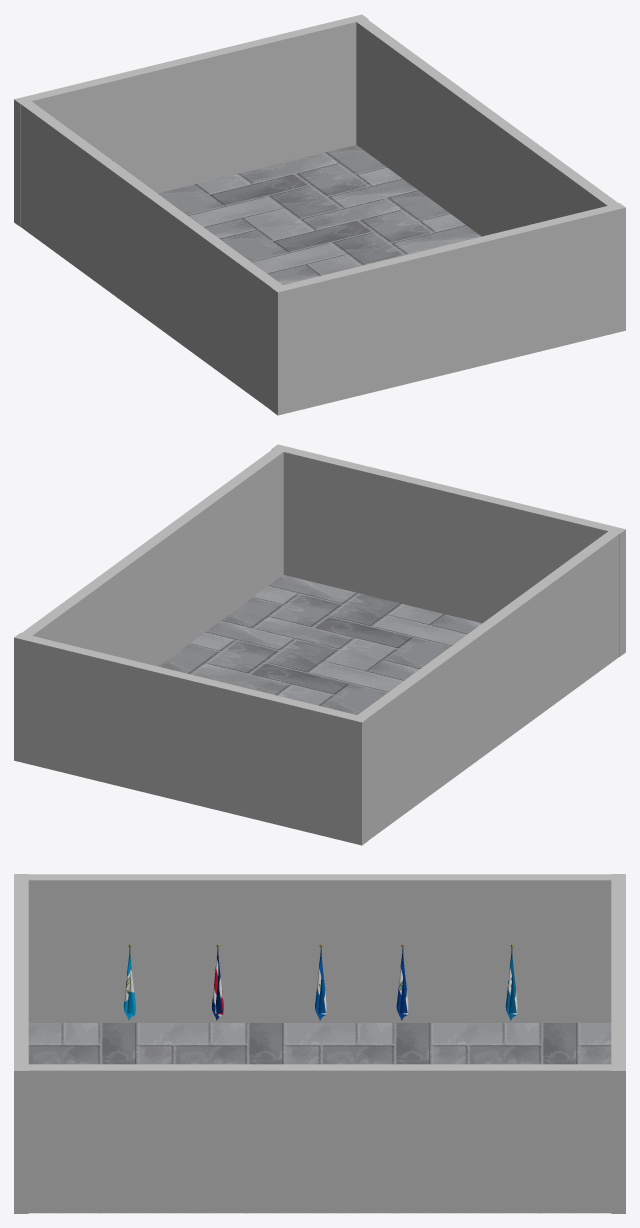
Rendered from FinalDesign.gltf.
3 views of the same model, one above another, from view 1: azimuth 30°, elevation 25°; view 2: azimuth 150°, elevation 25°; view 3: azimuth 270°, elevation 25° (orthographic). The views are drawn at different scales.
Visible parts, largest first — view 1: leftWall, rightwall, wall, wall.001, floor; view 2: rightwall, leftWall, wall, wall.001, floor; view 3: wall.001, wall, floor, leftWall, rightwall, Flag.002, Flag.002_Material_0.003, Flag.002_Material_0.002, Flag.002_Material_0.001, Flag.002_Material_0.004.
Boxes of the visible parts, x1,y1,x2,y2 form: leftWall: (271,203,625,415); rightwall: (14,14,368,226); wall: (19,100,283,410); wall.001: (356,19,618,236); floor: (158,145,481,284); rightwall: (14,633,368,845); leftWall: (271,444,625,656); wall: (355,530,619,840); wall.001: (21,449,283,666); floor: (158,575,481,714); wall.001: (28,1064,615,1212); wall: (26,874,615,1022); floor: (28,1023,611,1213); leftWall: (14,874,28,1213); rightwall: (611,874,625,1213); Flag.002: (315,949,326,1020); Flag.002_Material_0.003: (396,949,408,1020); Flag.002_Material_0.002: (123,948,135,1020); Flag.002_Material_0.001: (212,949,223,1020); Flag.002_Material_0.004: (505,948,517,1020).
Bounding box in the file's own units: 63.86 × 21.57 × 83.83.
